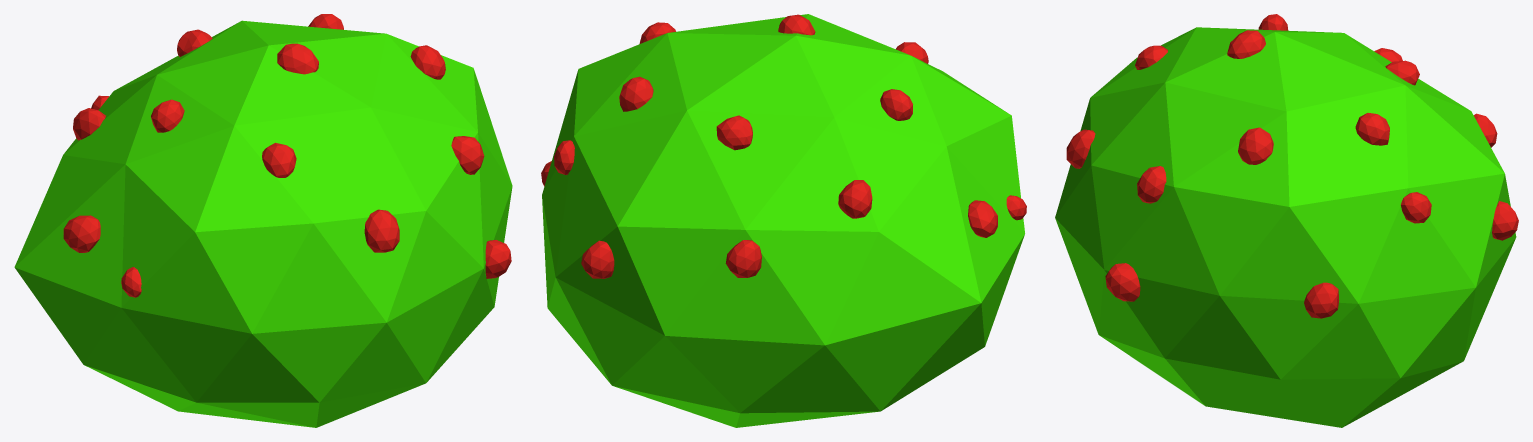
Rendered from bush1.fbx.
The picture shows the model from 3 angles, left to right: view 1: azimuth 30°, elevation 25°; view 2: azimuth 150°, elevation 25°; view 3: azimuth 270°, elevation 25°; orthographic projection. The views are drawn at different scales.
Visible parts, largest first — view 1: Icosphere.005; view 2: Icosphere.005; view 3: Icosphere.005.
Part boxes in pixels (left/top/right/bottom): Icosphere.005: left=14, top=14, right=512, bottom=427; Icosphere.005: left=541, top=14, right=1026, bottom=427; Icosphere.005: left=1055, top=14, right=1518, bottom=427.
Bounding box in the file's own units: 128 × 99.38 × 120.
